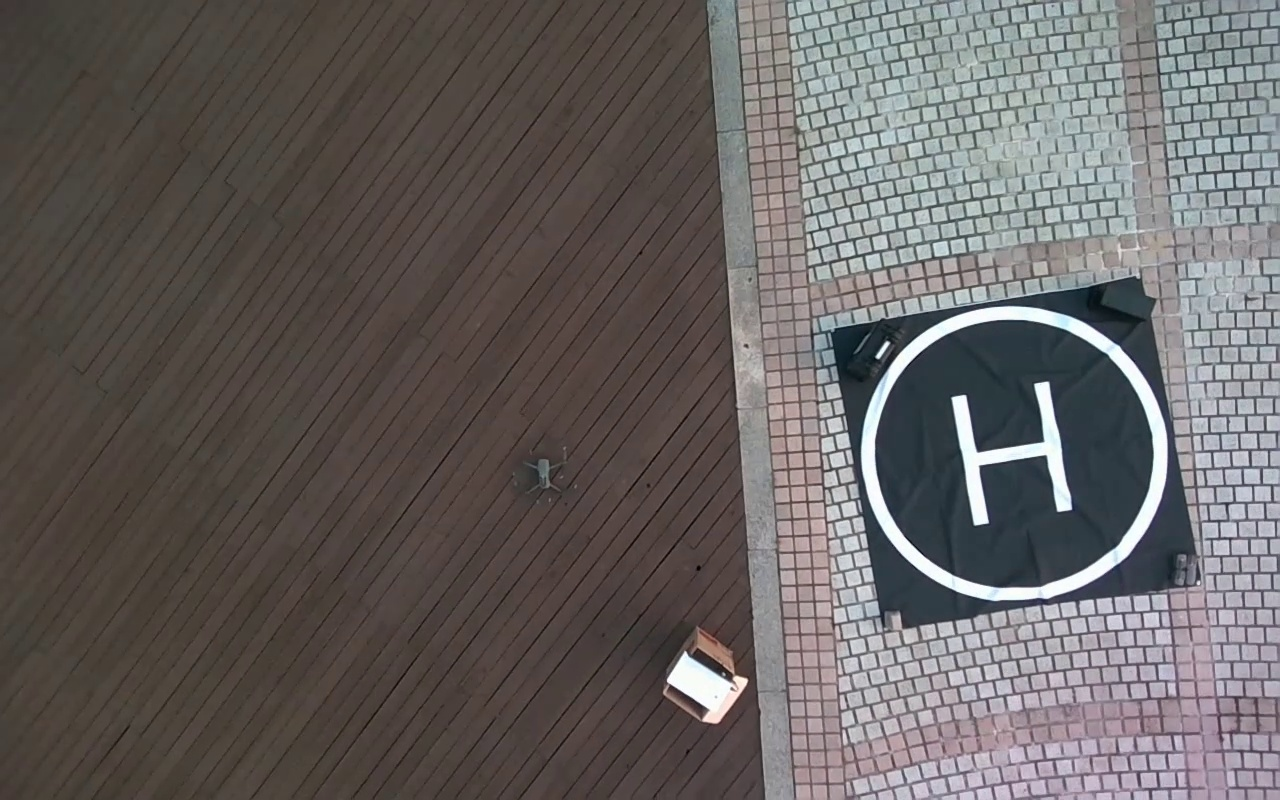H: (945, 379, 1076, 531)
heliport: (860, 309, 1173, 604)
